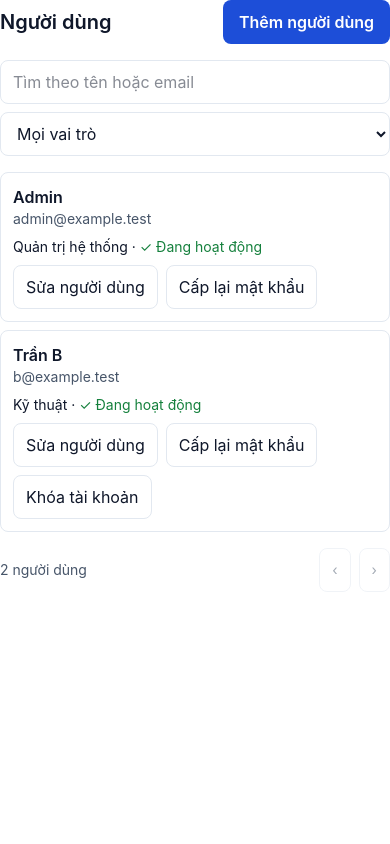
Test: UsersPage › asks for confirmation before resetting a password
What coordinates should you click on to do the following:
click the button "Cấp lại mật khẩu" below "Kỹ thuật"
I would click on:
 (242, 445)
Its box is [166, 423, 317, 467].
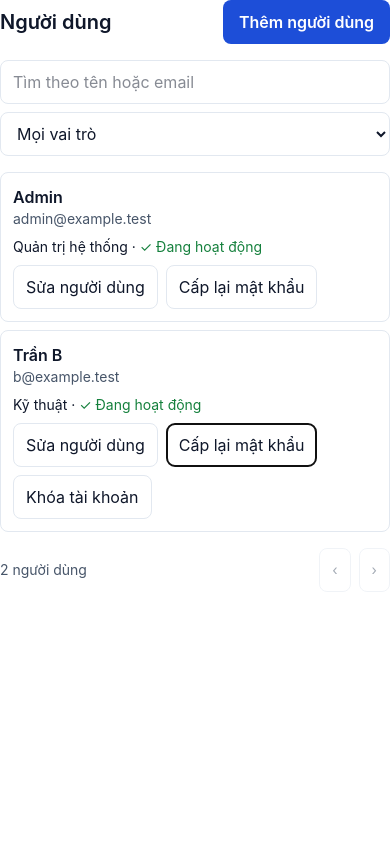
What coordinates should you click on to do the following:
click the button "Cấp lại mật khẩu" below "Kỹ thuật"
I would click on:
 (242, 445)
Its box is [166, 423, 317, 467].
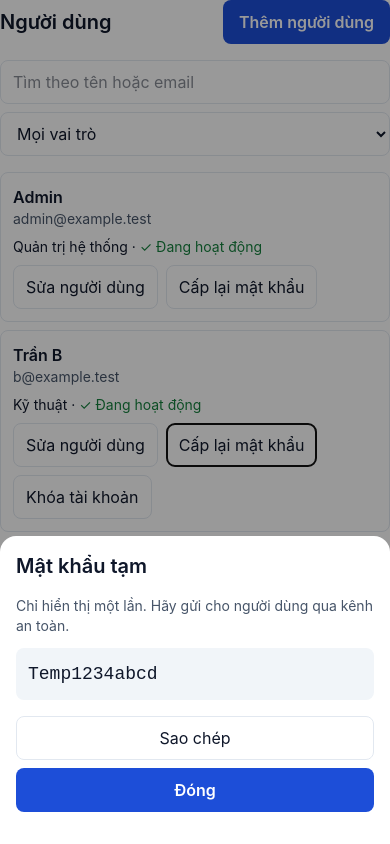
Result: the text with test id "temp-password" reads "Temp1234abcd" at [28, 664, 158, 684]
